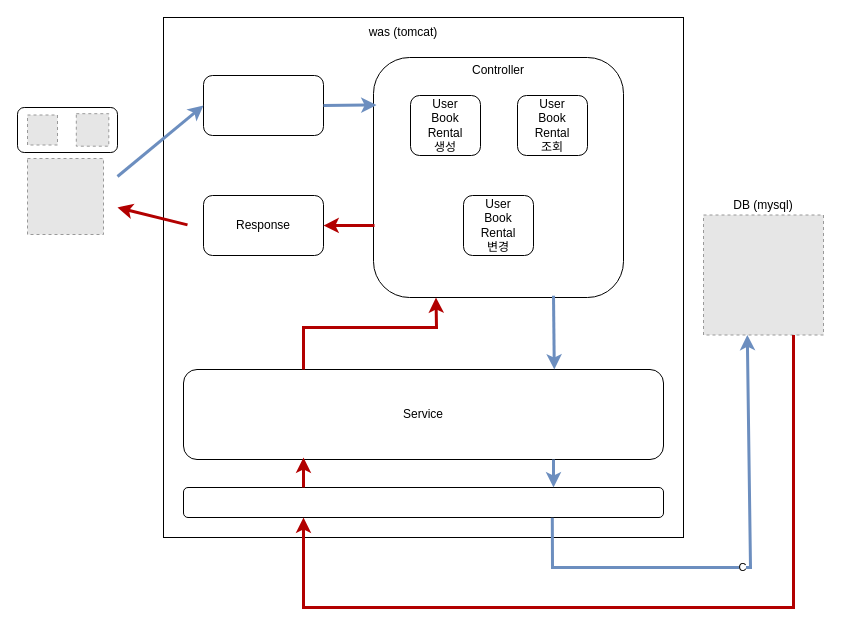
The diagram is 841 pixels wide and 634 high, and some of its shapes have lost their labels. Grey dashed boxes stand in for pictures. The shapes that lost their labels are listed below. From the top down, each one's centre as x and y in pixels, then its label:
At [263,105]: "Request".
At [423,502]: "JPA Entity".
